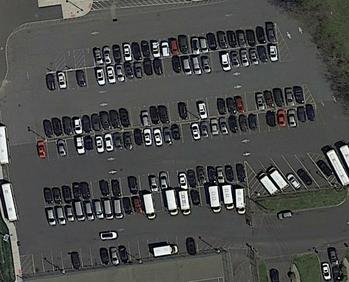parkingspot: (35, 104, 319, 165), (32, 84, 306, 142), (45, 42, 281, 96), (42, 160, 249, 209), (44, 180, 251, 229), (82, 23, 278, 69), (32, 233, 200, 276), (253, 166, 336, 198), (62, 48, 77, 72)
